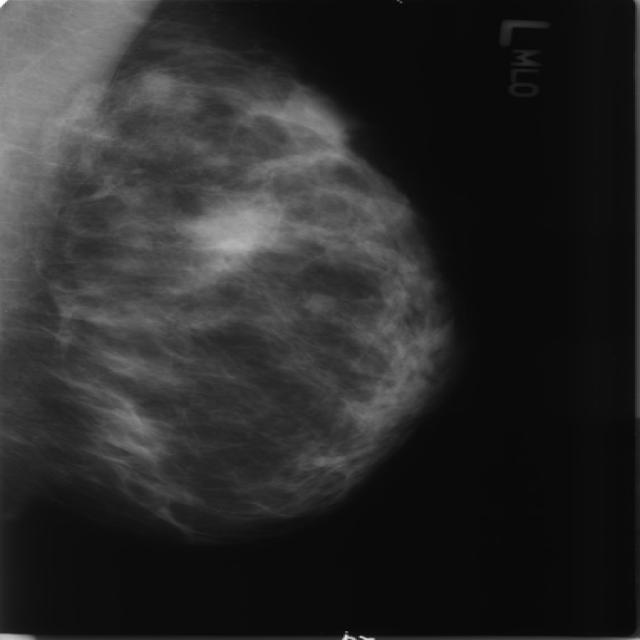tumour: (182, 197, 274, 259)
